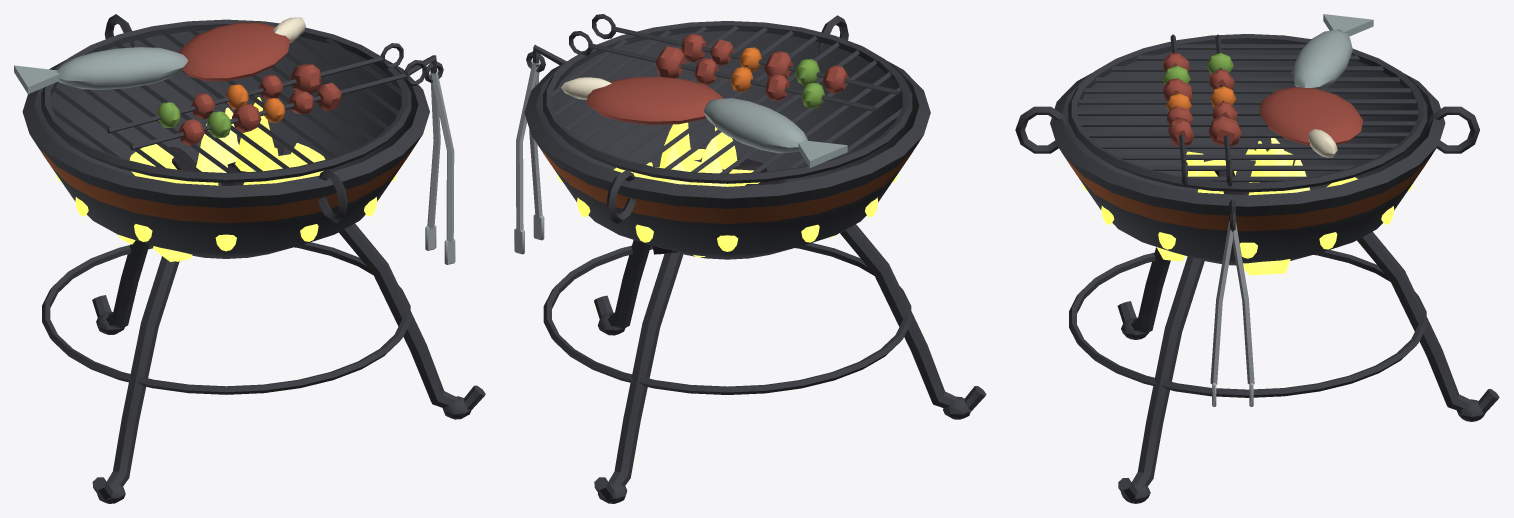
The model's file is deco_grill_brazier.fbx.
The picture shows the model from 3 angles, left to right: view 1: azimuth 30°, elevation 25°; view 2: azimuth 150°, elevation 25°; view 3: azimuth 270°, elevation 25°; orthographic projection. The views are drawn at different scales.
Visible parts, largest first — view 1: GrillBrazier_Bowl, GrillBrazier_Food, GrillBrazier_Legs, GrillBrazier_Grate, GrillBrazier_Coals, GrillBrazier_Tongs; view 2: GrillBrazier_Bowl, GrillBrazier_Food, GrillBrazier_Legs, GrillBrazier_Grate, GrillBrazier_Coals, GrillBrazier_Tongs; view 3: GrillBrazier_Bowl, GrillBrazier_Grate, GrillBrazier_Legs, GrillBrazier_Food, GrillBrazier_Coals, GrillBrazier_Tongs.
Boxes of the visible parts, bbox=[...] form: GrillBrazier_Bowl: bbox=[22, 14, 429, 258]; GrillBrazier_Food: bbox=[14, 17, 426, 150]; GrillBrazier_Legs: bbox=[42, 223, 485, 503]; GrillBrazier_Grate: bbox=[41, 19, 411, 182]; GrillBrazier_Coals: bbox=[118, 97, 325, 261]; GrillBrazier_Tongs: bbox=[403, 55, 455, 264]; GrillBrazier_Bowl: bbox=[524, 15, 930, 259]; GrillBrazier_Food: bbox=[561, 14, 899, 167]; GrillBrazier_Legs: bbox=[543, 224, 986, 503]; GrillBrazier_Grate: bbox=[543, 21, 912, 183]; GrillBrazier_Coals: bbox=[613, 122, 839, 257]; GrillBrazier_Tongs: bbox=[514, 45, 566, 254]; GrillBrazier_Bowl: bbox=[1015, 43, 1479, 265]; GrillBrazier_Grate: bbox=[1068, 34, 1427, 192]; GrillBrazier_Legs: bbox=[1069, 231, 1499, 503]; GrillBrazier_Food: bbox=[1162, 14, 1373, 186]; GrillBrazier_Coals: bbox=[1156, 138, 1357, 275]; GrillBrazier_Tongs: bbox=[1210, 199, 1254, 406].
Size of the model in its own units: 123 by 102 by 130.
